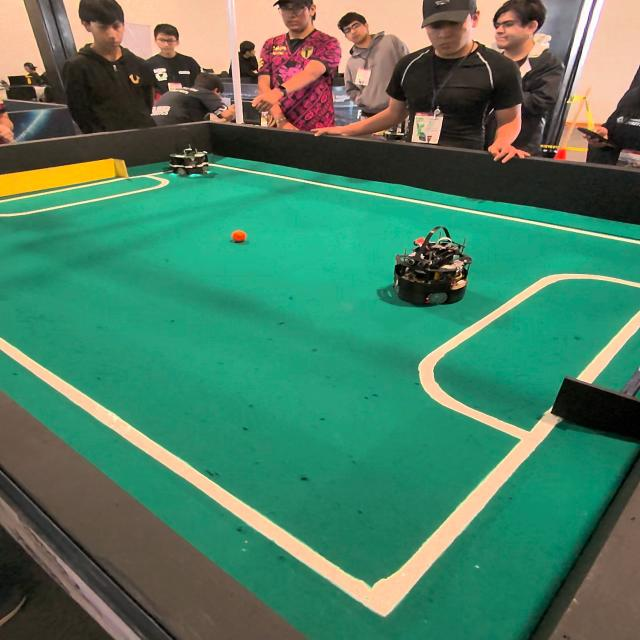Robot: (394, 226, 474, 312), (165, 130, 213, 184)
pelota: (233, 233, 246, 242)
